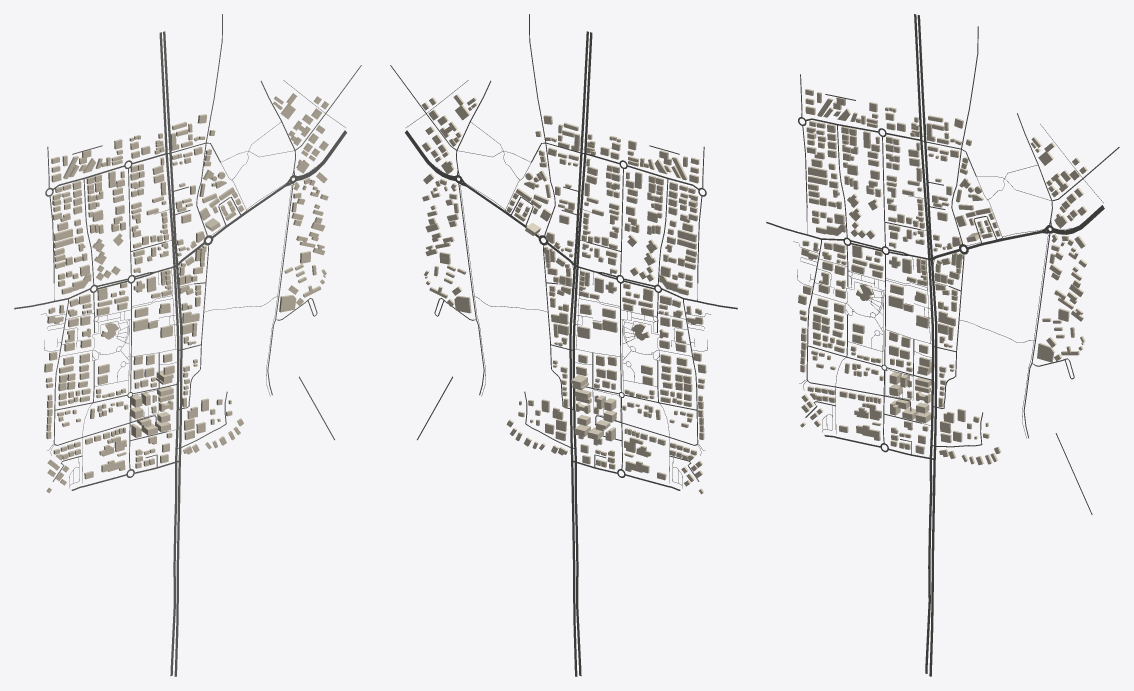
Rendered from historic-palestine-07_27_3489_3215.glb.
The picture shows the model from 3 angles, left to right: view 1: azimuth 30°, elevation 25°; view 2: azimuth 150°, elevation 25°; view 3: azimuth 330°, elevation 25°; orthographic projection.
Parts seen in each view (by area): view 1: Road דרך רמתיים.001, Road דרך רמתיים; view 2: Road דרך רמתיים.001, Road דרך רמתיים; view 3: Road דרך רמתיים.001, Road דרך רמתיים.
Boxes of the visible parts, left/top/right/bottom form: Road דרך רמתיים.001: left=163, top=31, right=182, bottom=676; Road דרך רמתיים: left=159, top=32, right=179, bottom=676; Road דרך רמתיים.001: left=569, top=31, right=588, bottom=676; Road דרך רמתיים: left=572, top=32, right=592, bottom=676; Road דרך רמתיים.001: left=917, top=15, right=937, bottom=676; Road דרך רמתיים: left=914, top=14, right=934, bottom=673.
Bounding box in the file's own units: 1192 × 2132 × 44.6.
